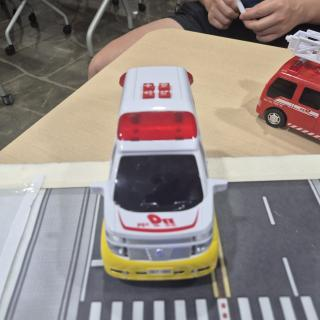Ambulance: (90, 66, 227, 281)
